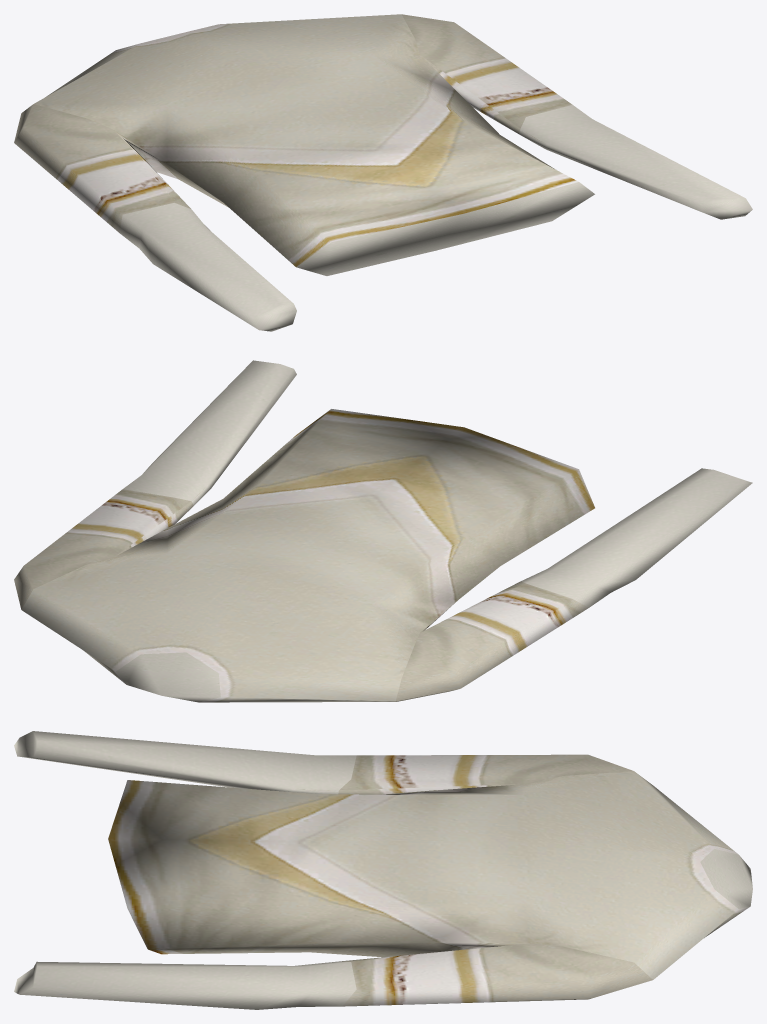
The model's file is m_Torso1.glb.
3 views of the same model, one above another, from view 1: azimuth 30°, elevation 25°; view 2: azimuth 150°, elevation 25°; view 3: azimuth 270°, elevation 25° (orthographic). The views are drawn at different scales.
Parts seen in each view (by area): view 1: Torso1; view 2: Torso1; view 3: Torso1.
Part boxes in pixels (box(x1,y1,x2,y2)): Torso1: box(14, 14, 752, 331); Torso1: box(14, 360, 752, 702); Torso1: box(14, 731, 752, 1009).
Size of the model in its own units: 31.35 by 3.67 by 38.1.
Materials: 1 (1 with a texture image).
